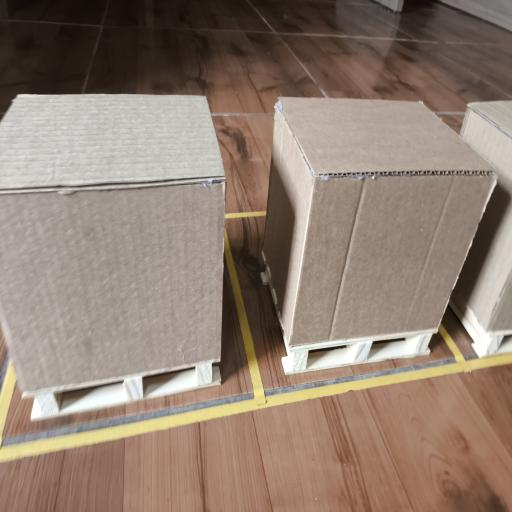pallet: (262, 254, 435, 374), (31, 362, 220, 421), (450, 293, 511, 357)
